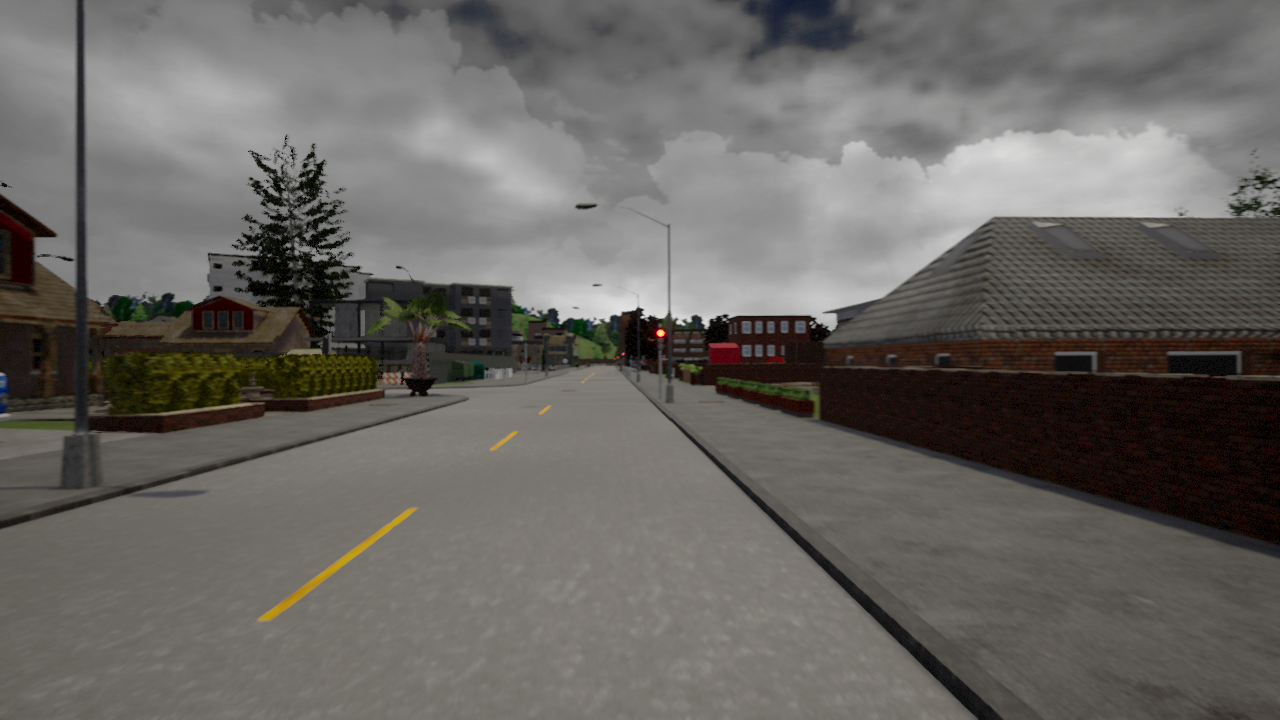red: (656, 327, 666, 352)
